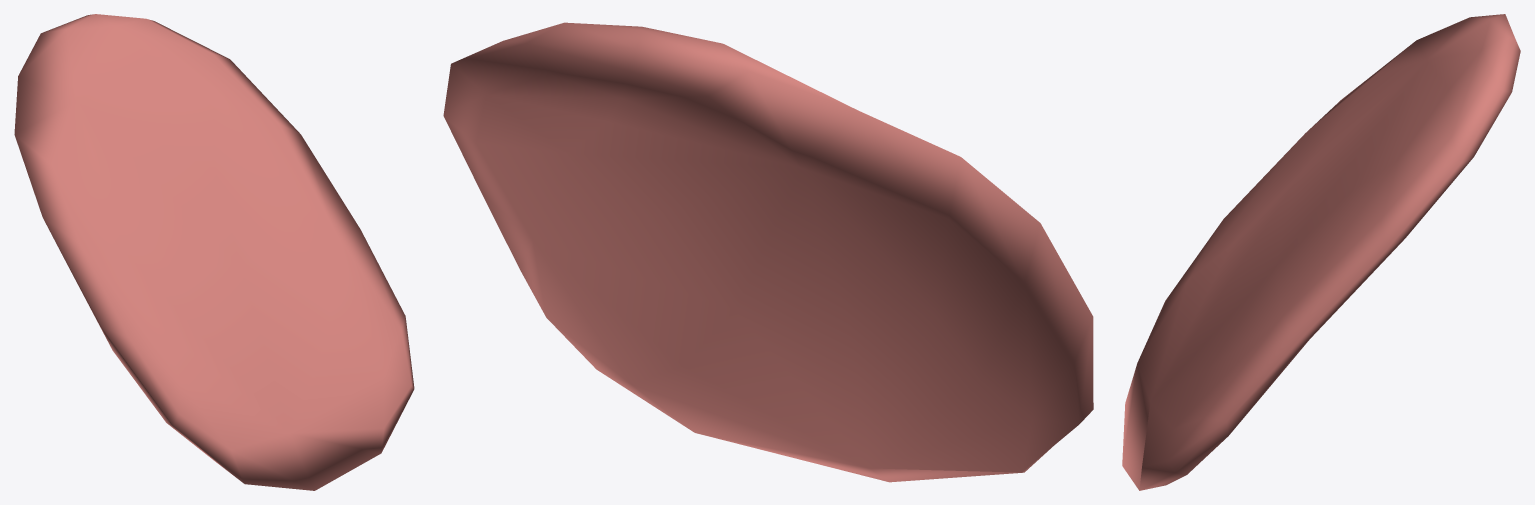
3 renders of one model, left to right at view 1: azimuth 30°, elevation 25°; view 2: azimuth 150°, elevation 25°; view 3: azimuth 270°, elevation 25°, orthographic. The views are drawn at different scales.
Parts seen in each view (by area): view 1: ZA_0109c25520b85799; view 2: ZA_0109c25520b85799; view 3: ZA_0109c25520b85799.
Part boxes in pixels (x1,y1,x2,y2): ZA_0109c25520b85799: (14,14,414,490); ZA_0109c25520b85799: (443,22,1093,482); ZA_0109c25520b85799: (1122,14,1520,490).
Bounding box in the file's own units: 0.00408 × 0.00454 × 0.00406.
